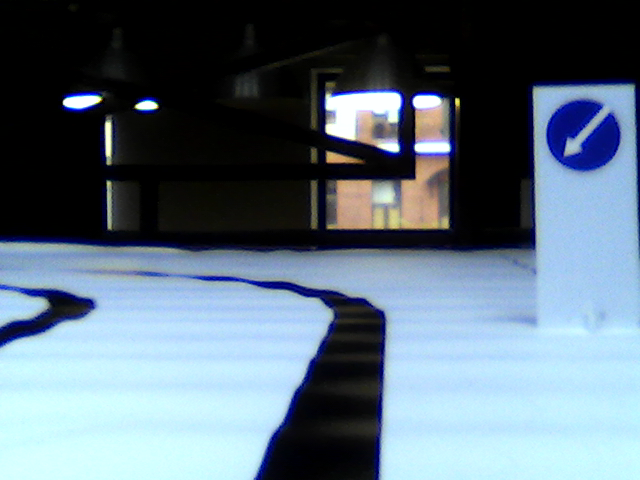prep: (544, 98, 624, 171)
